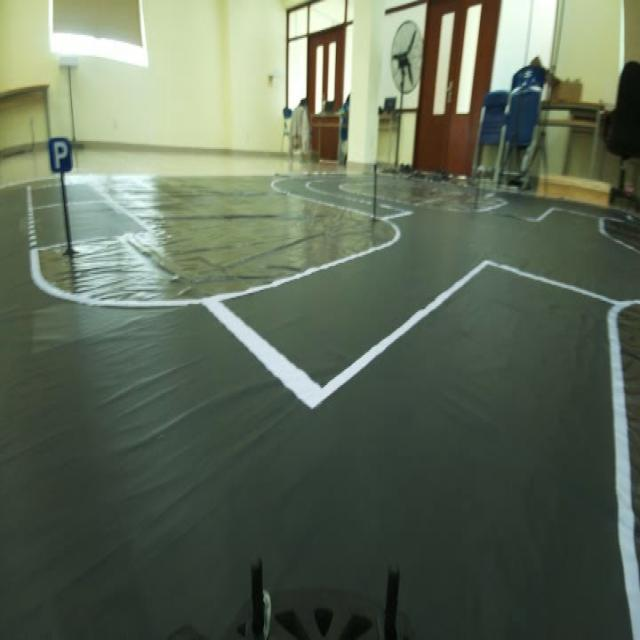parking: (45, 126, 76, 172)
